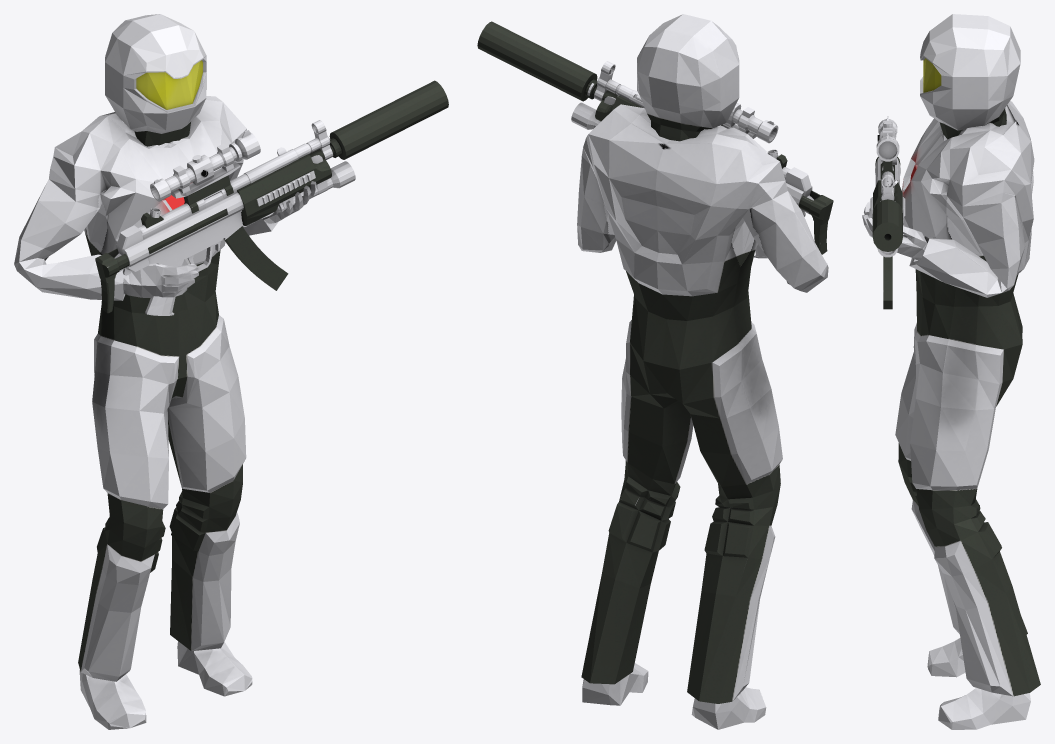
The model's file is walk8.obj.
3 renders of one model, left to right at view 1: azimuth 30°, elevation 25°; view 2: azimuth 150°, elevation 25°; view 3: azimuth 270°, elevation 25°, orthographic. The views are drawn at different scales.
Visible parts, largest first — view 1: Male001Skin_001, Object001; view 2: Male001Skin_001, Object001; view 3: Male001Skin_001, Object001.
Boxes of the visible parts, <box> form: Male001Skin_001: <box>14,14,316,729</box>; Object001: <box>95,80,448,315</box>; Male001Skin_001: <box>577,14,828,729</box>; Object001: <box>477,21,833,258</box>; Male001Skin_001: <box>862,14,1040,729</box>; Object001: <box>870,116,905,309</box>.
Size of the model in its own units: 1111 by 1888 by 455.
Materials: 1 (1 with a texture image).
